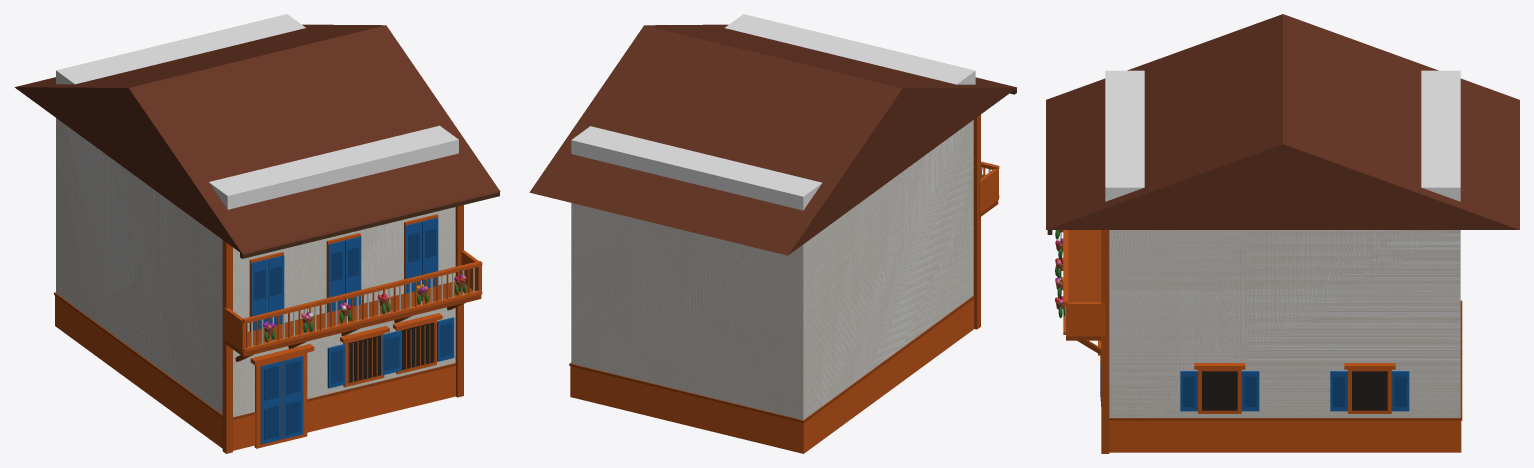
The model's file is casa_cafetera_naranja.glb.
3 renders of one model, left to right at view 1: azimuth 30°, elevation 25°; view 2: azimuth 150°, elevation 25°; view 3: azimuth 270°, elevation 25°, orthographic. The views are drawn at different scales.
Visible parts, largest first — view 1: casa_cafetera_naranja_Malla, COL_0; view 2: casa_cafetera_naranja_Malla, COL_0; view 3: casa_cafetera_naranja_Malla, COL_0.
Part boxes in pixels (x1,y1,x2,y2): casa_cafetera_naranja_Malla: (14, 24, 500, 453); COL_0: (56, 14, 458, 416); casa_cafetera_naranja_Malla: (529, 24, 1017, 453); COL_0: (571, 14, 975, 419); casa_cafetera_naranja_Malla: (1046, 14, 1519, 453); COL_0: (1105, 70, 1460, 417).
Size of the model in its own units: 7.8 by 8.88 by 12.
